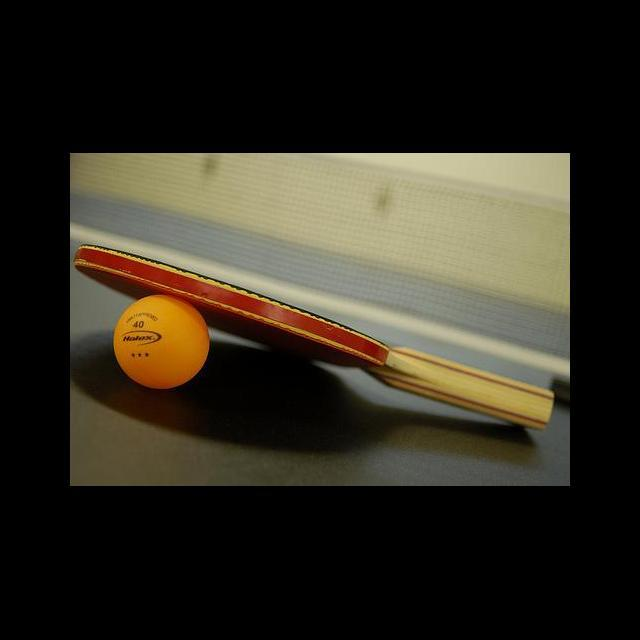ping-pong-ball: (111, 291, 213, 390)
